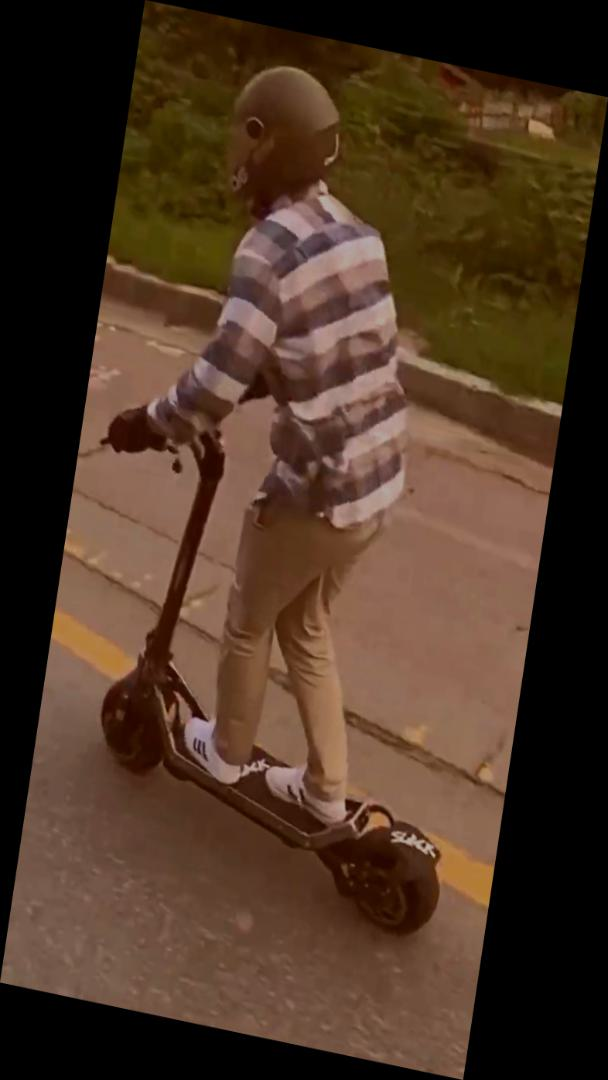helmet: (36, 35, 556, 944)
